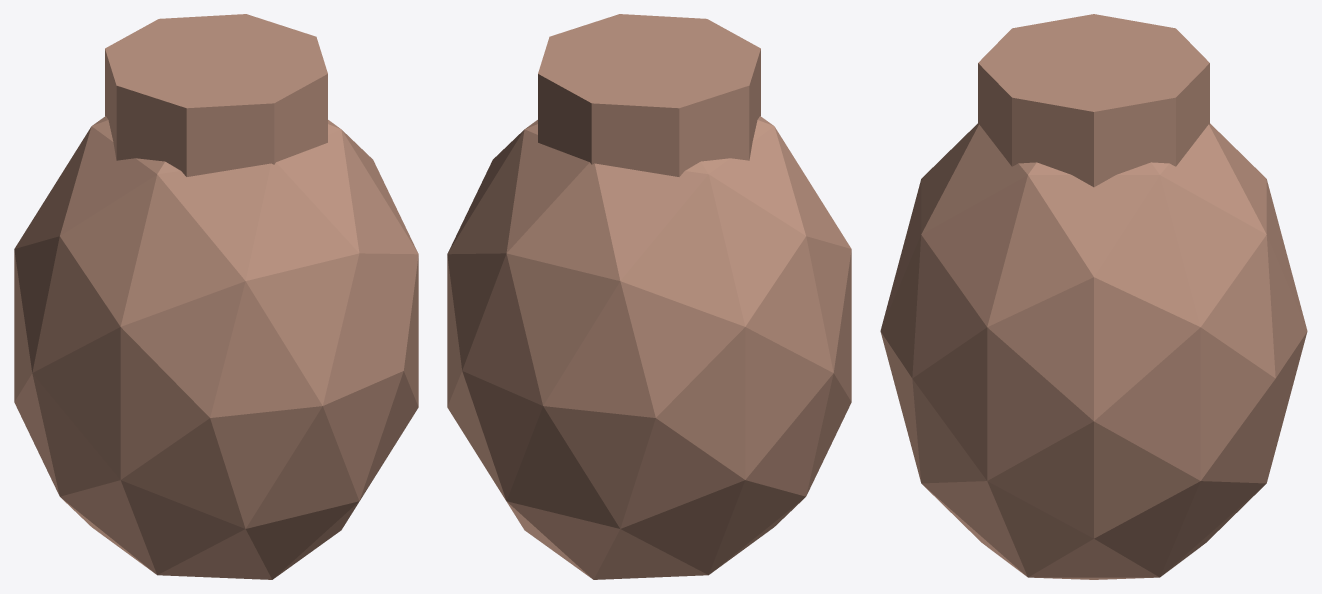
File: clay_jar.glb
3 renders of one model, left to right at view 1: azimuth 30°, elevation 25°; view 2: azimuth 150°, elevation 25°; view 3: azimuth 270°, elevation 25°, orthographic.
Visible parts, largest first — view 1: part_0, part_1; view 2: part_0, part_1; view 3: part_0, part_1.
Part boxes in pixels (<box>): part_0: <box>14,116,418,579</box>; part_1: <box>105,14,327,176</box>; part_0: <box>447,116,851,579</box>; part_1: <box>538,14,760,176</box>; part_0: <box>880,123,1307,579</box>; part_1: <box>978,14,1209,187</box>.
Size of the model in its own units: 0.7 by 0.935 by 0.7.
